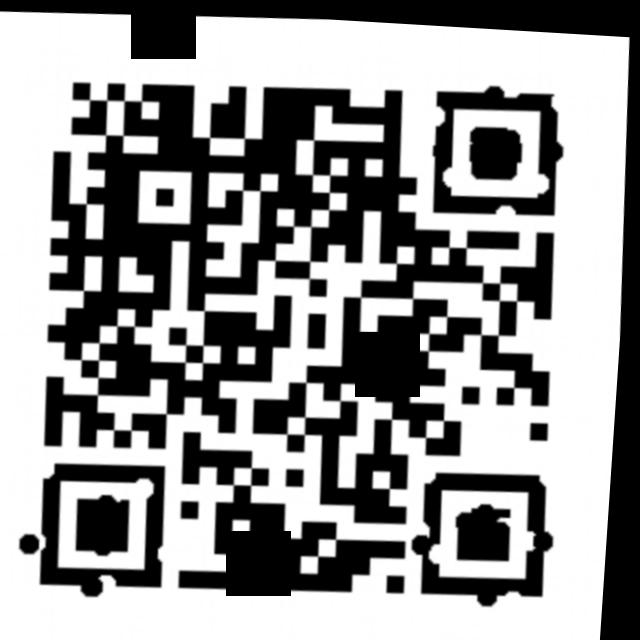QR_CODE: (0, 36, 600, 630)
